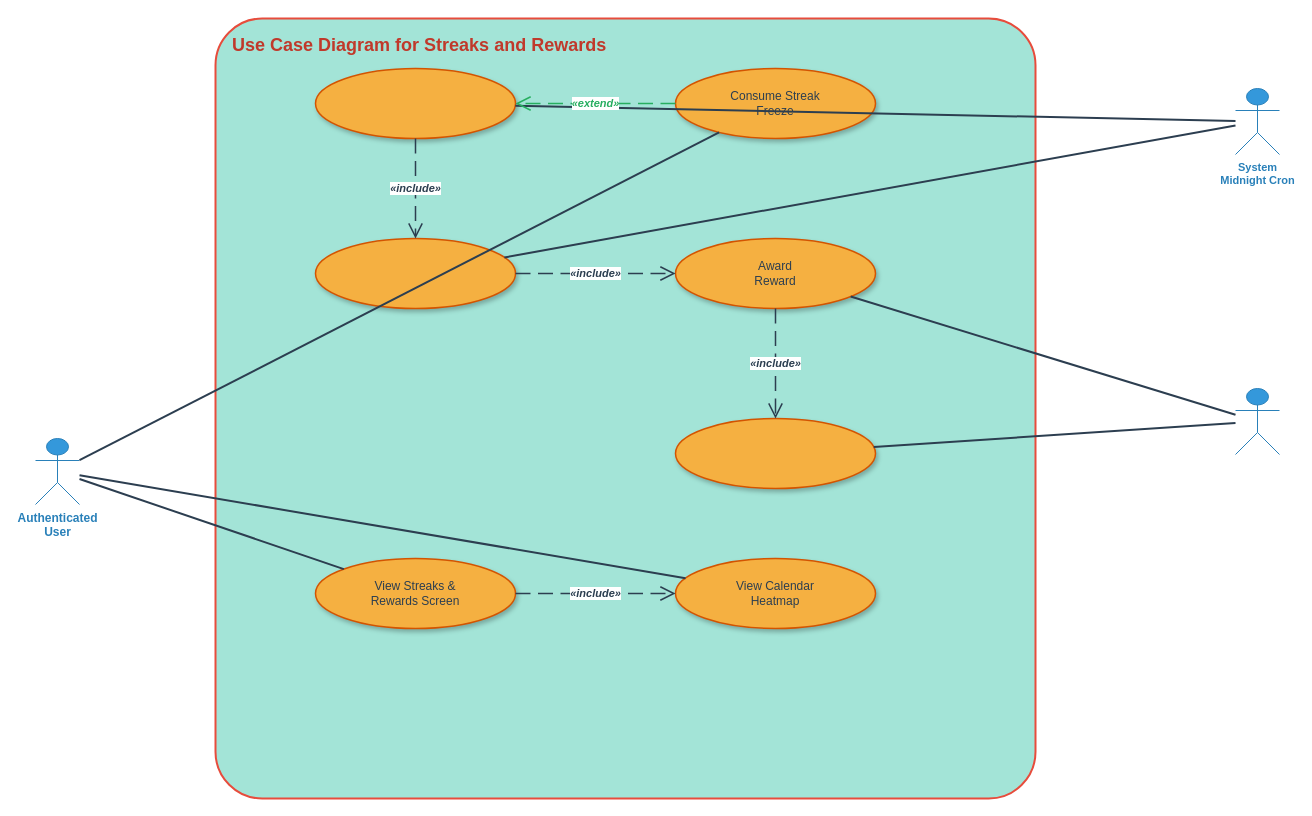
The diagram is 1312 pixels wide and 816 high, and some of its shapes have lost their labels. Each missing label, with the centre of its shape:
"Credit Bonus Screen-Time" belongs at (x=776, y=454).
"Evaluate Daily Streak" belongs at (x=416, y=104).
"Evaluate Reward Criteria" belongs at (x=416, y=274).
"Reward DB" belongs at (x=1257, y=421).
